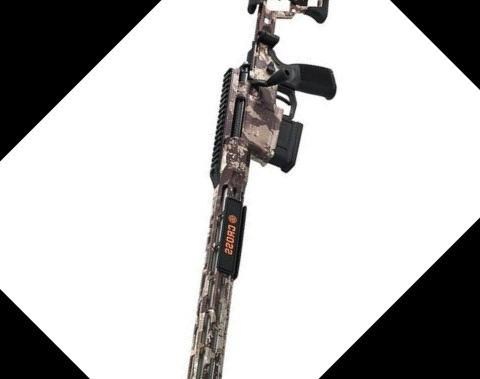larga: (186, 0, 337, 379)
